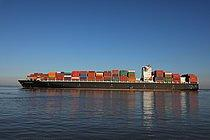Ship: (12, 64, 206, 97)
